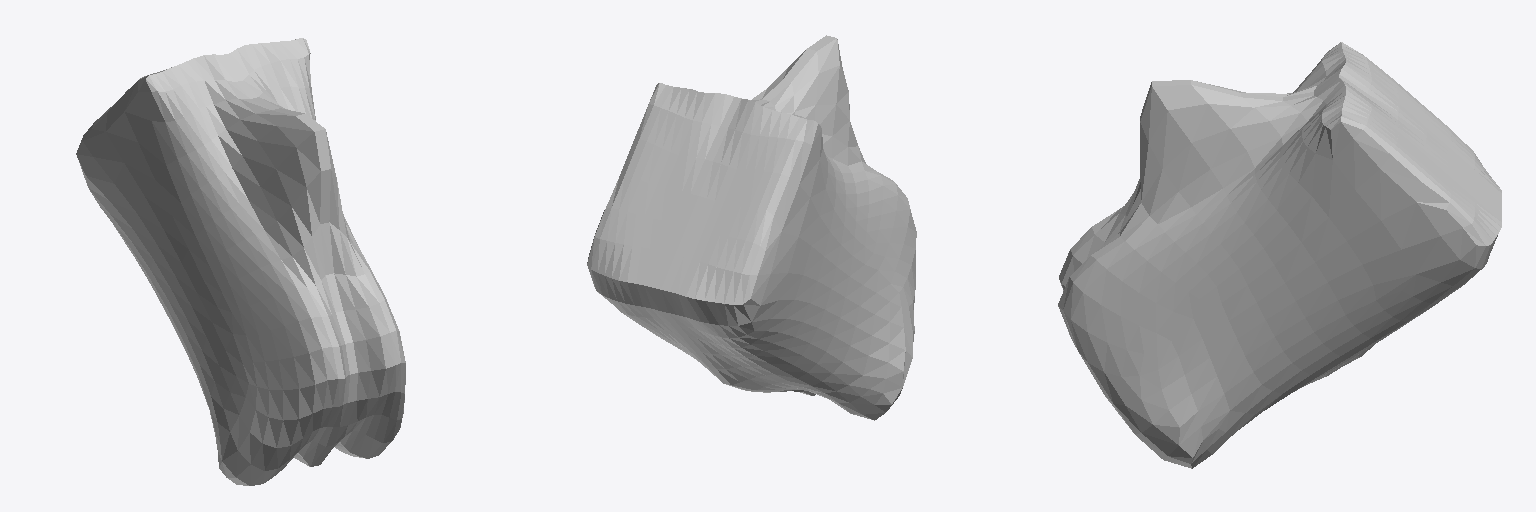
Rendered from vertabrae25.obj.
3 views of the same model, side by side, from view 1: azimuth 30°, elevation 25°; view 2: azimuth 150°, elevation 25°; view 3: azimuth 270°, elevation 25° (orthographic).
Parts seen in each view (by area): view 1: Cube.121_Cube.122; view 2: Cube.121_Cube.122; view 3: Cube.121_Cube.122.
Boxes of the visible parts, x1=… form: Cube.121_Cube.122: x1=76, y1=38, x2=405, y2=485; Cube.121_Cube.122: x1=587, y1=35, x2=916, y2=420; Cube.121_Cube.122: x1=1058, y1=42, x2=1501, y2=468.
Bounding box in the file's own units: 0.0442 × 0.0898 × 0.0995.